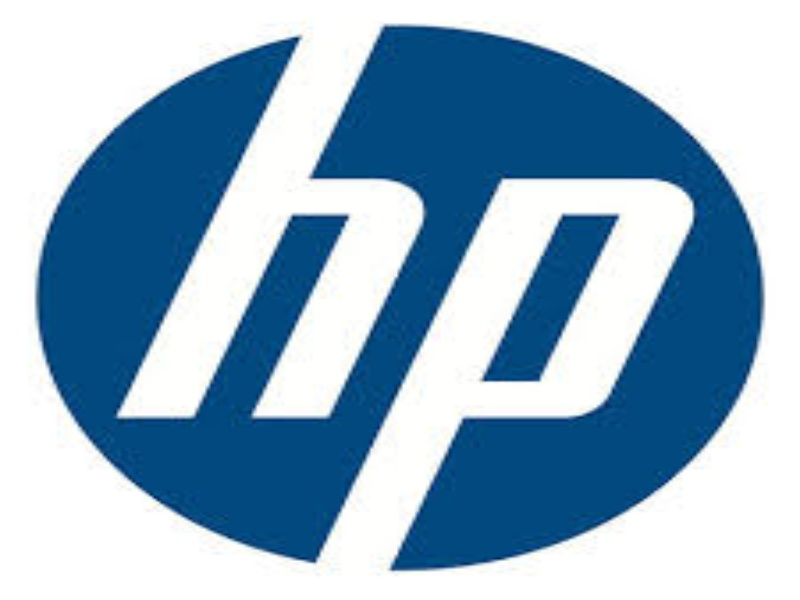hp: (127, 23, 695, 582)
